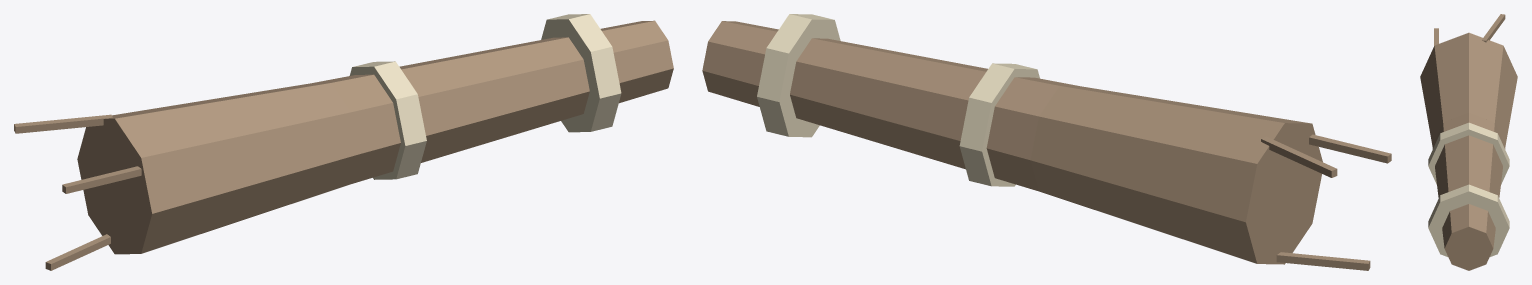
File: prop-birch-twig-bundle.fbx
The picture shows the model from 3 angles, left to right: view 1: azimuth 30°, elevation 25°; view 2: azimuth 150°, elevation 25°; view 3: azimuth 270°, elevation 25°; orthographic projection. The views are drawn at different scales.
Parts seen in each view (by area): view 1: prop-birch-twig-bundle; view 2: prop-birch-twig-bundle; view 3: prop-birch-twig-bundle.
Boxes of the visible parts, x1,y1,x2,y2 form: prop-birch-twig-bundle: [14, 14, 673, 270]; prop-birch-twig-bundle: [702, 14, 1391, 270]; prop-birch-twig-bundle: [1420, 14, 1517, 270].
Bounding box in the file's own units: 57 × 12 × 12.
